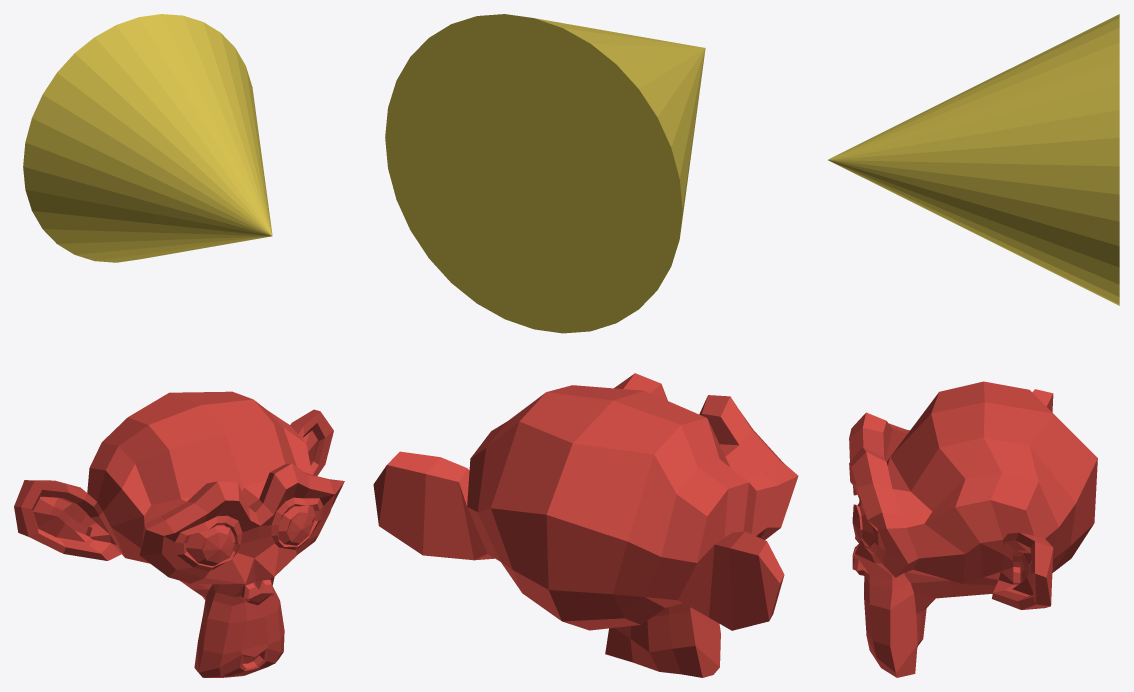
Rendered from cgbtest2.fbx.
3 views of the same model, side by side, from view 1: azimuth 30°, elevation 25°; view 2: azimuth 150°, elevation 25°; view 3: azimuth 270°, elevation 25° (orthographic). The views are drawn at different scales.
Parts seen in each view (by area): view 1: Suzanne, Cone; view 2: Cone, Suzanne; view 3: Suzanne, Cone.
Boxes of the visible parts, x1,y1,x2,y2 form: Suzanne: (14,391,344,677); Cone: (23,14,272,262); Cone: (385,14,705,333); Suzanne: (373,373,798,677); Suzanne: (849,381,1097,677); Cone: (828,14,1119,305).
Size of what is drawn, in the model's own units: 273 by 480 by 200.
